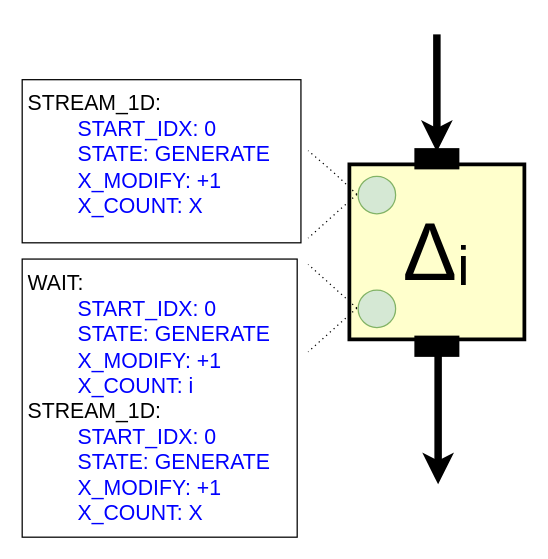
The diagram is 548 pixels wide and 559 high, and some of its shapes have lost their labels. The centre of each missing label's shape, as x and y in pixels:
"RAG" goes at (x=376, y=308).
"WAG" goes at (x=376, y=194).
